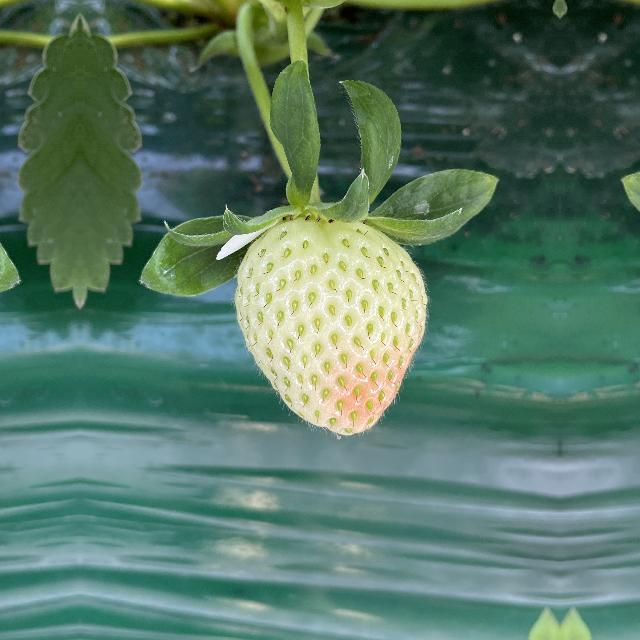Health_50: (224, 207, 432, 448)
